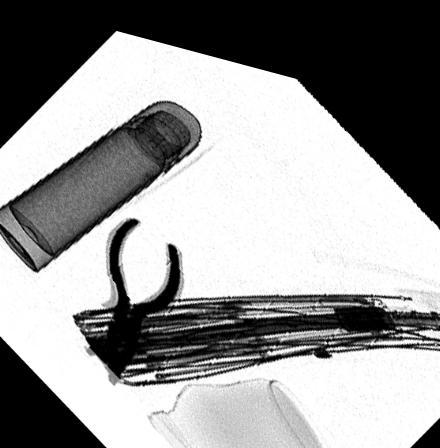Pliers: (104, 207, 182, 380)
